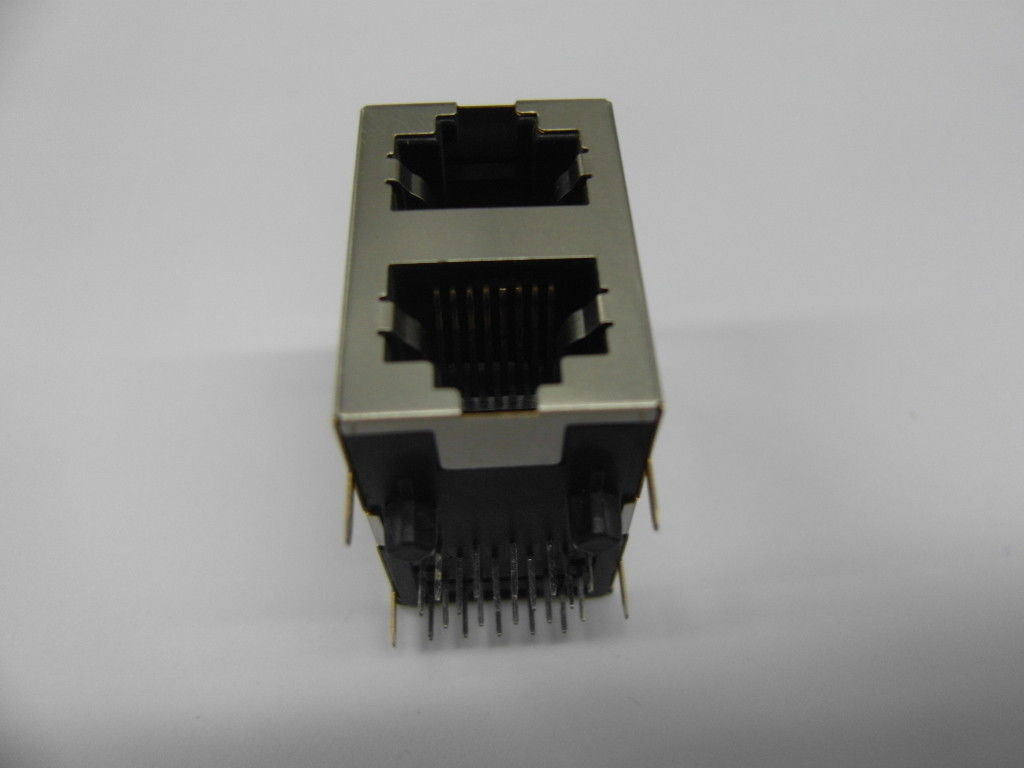lan: (361, 242, 632, 425), (370, 95, 614, 227)
